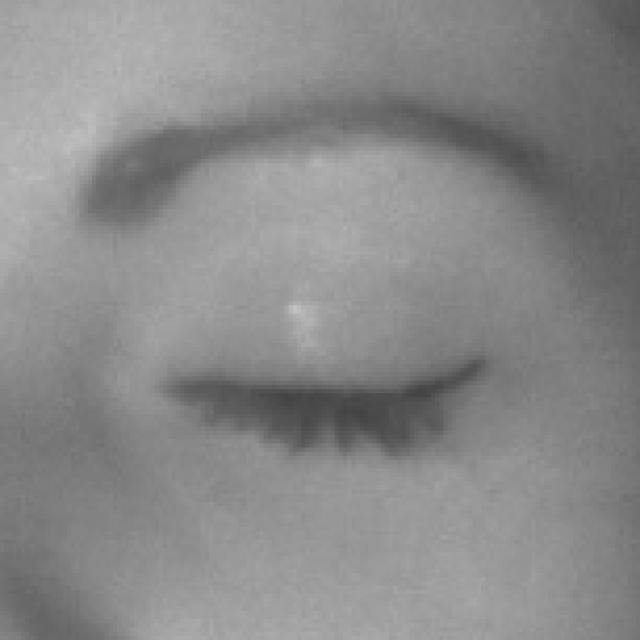close: (1, 53, 640, 558)
